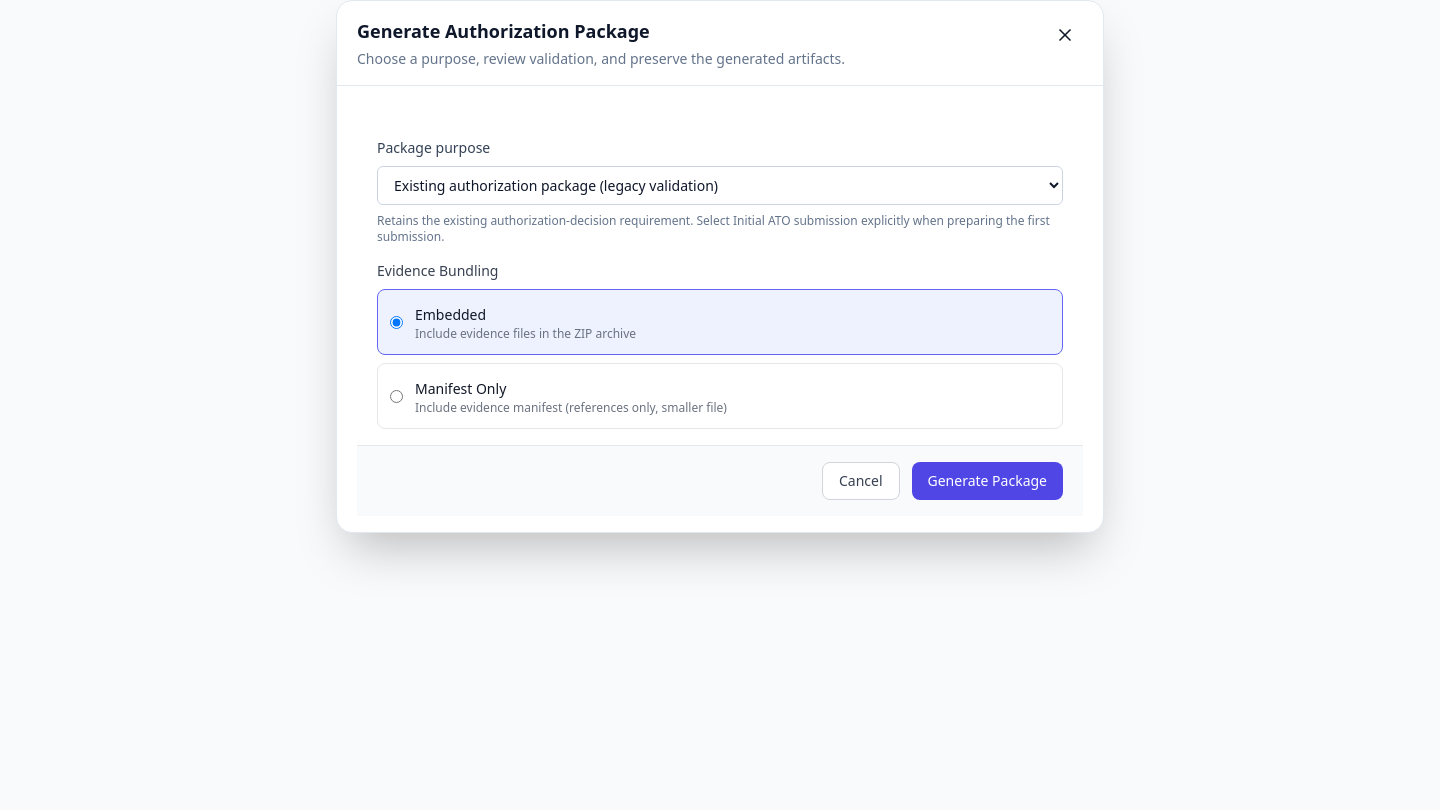
Test: cookie-session progress clients › does not generate an archive until the baseline and decision are explicitly pinned
Expected: the button "Generate Package" is shown, x1=912 y1=462 x2=1063 y2=500
Select "Authorized baseline archive" in the dropdown labelled "Package purpose": x=720, y=186 x1=377 y1=166 x2=1063 y2=205
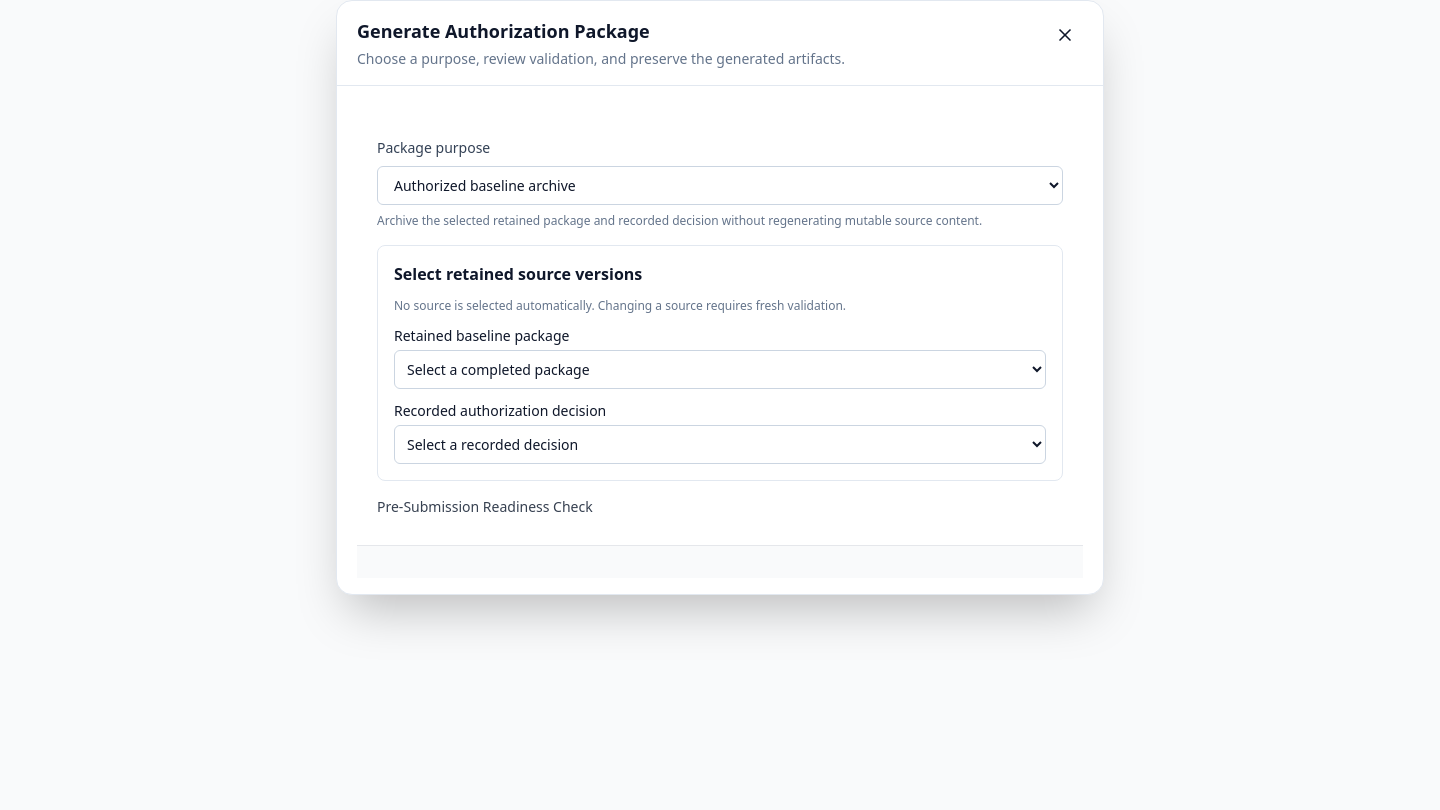
Expected: the button "Generate Package" is gone
Select "InitialSubmission · 2026-09-01 · baseline-a" in the dropdown labelled "Retained baseline package": x=720, y=370 x1=394 y1=350 x2=1046 y2=389
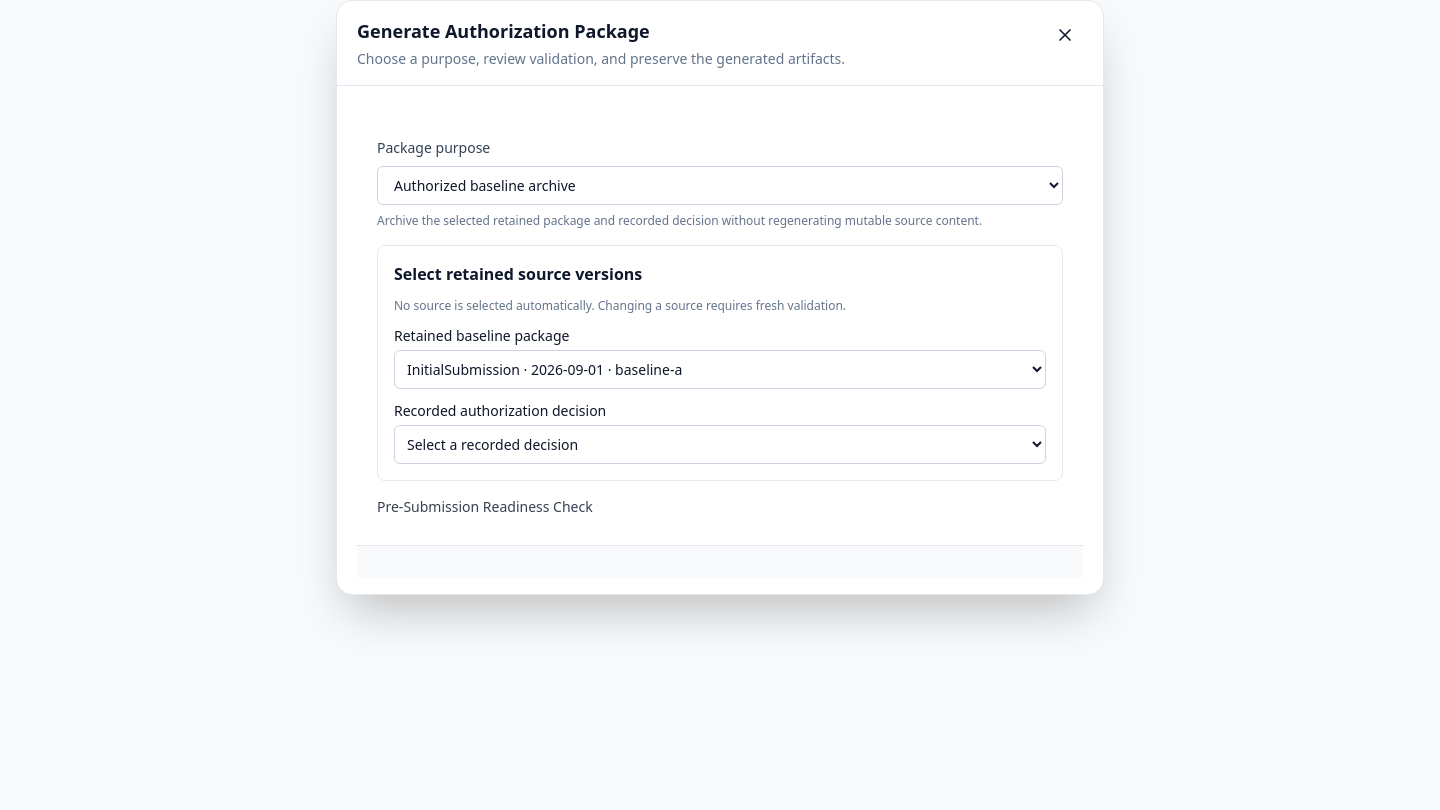
Select "ATO · 2026-09-02 · Recorded issuer" in the dropdown labelled "Recorded authorization decision": x=720, y=444 x1=394 y1=425 x2=1046 y2=464
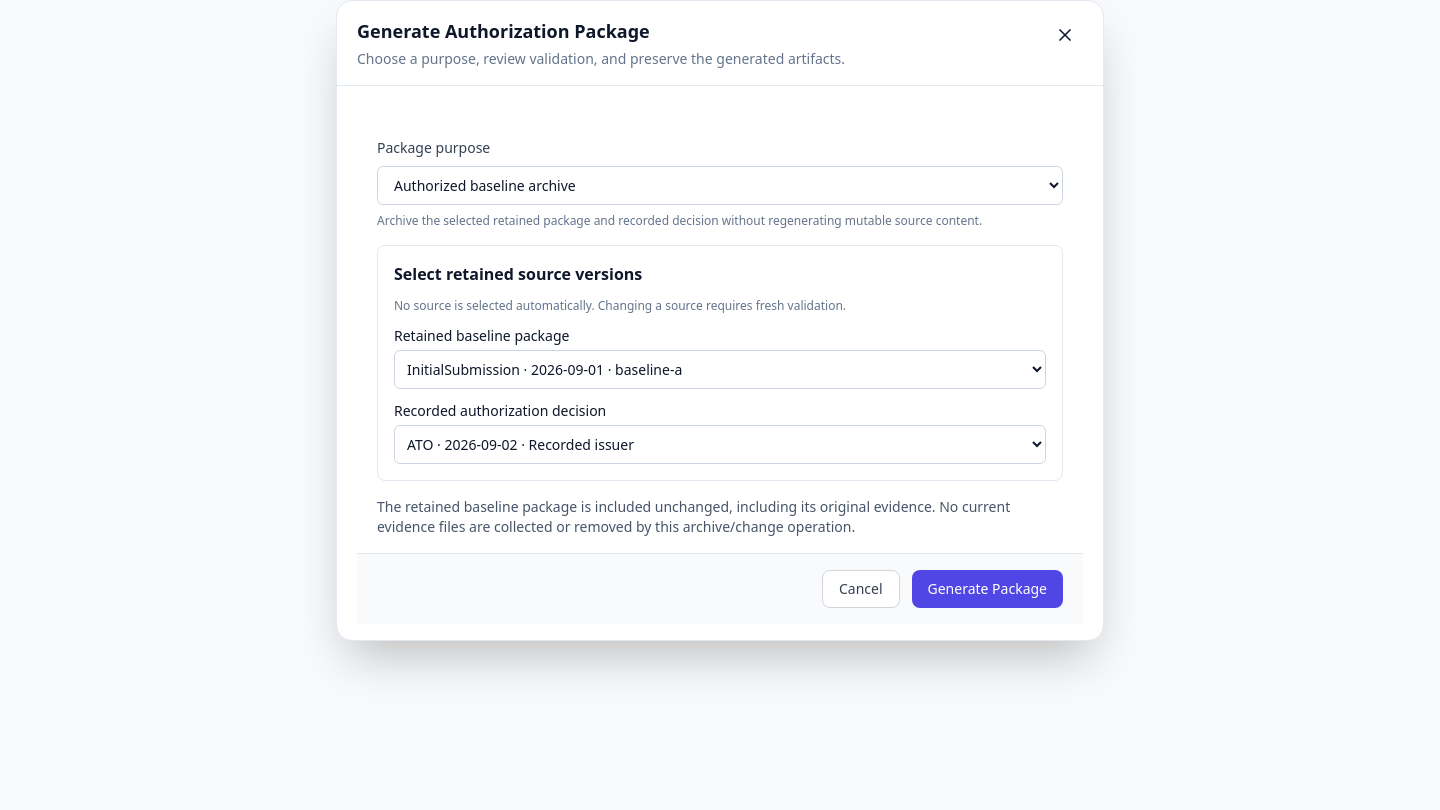
Click the button "Generate Package": x=987, y=589 x1=912 y1=570 x2=1063 y2=608
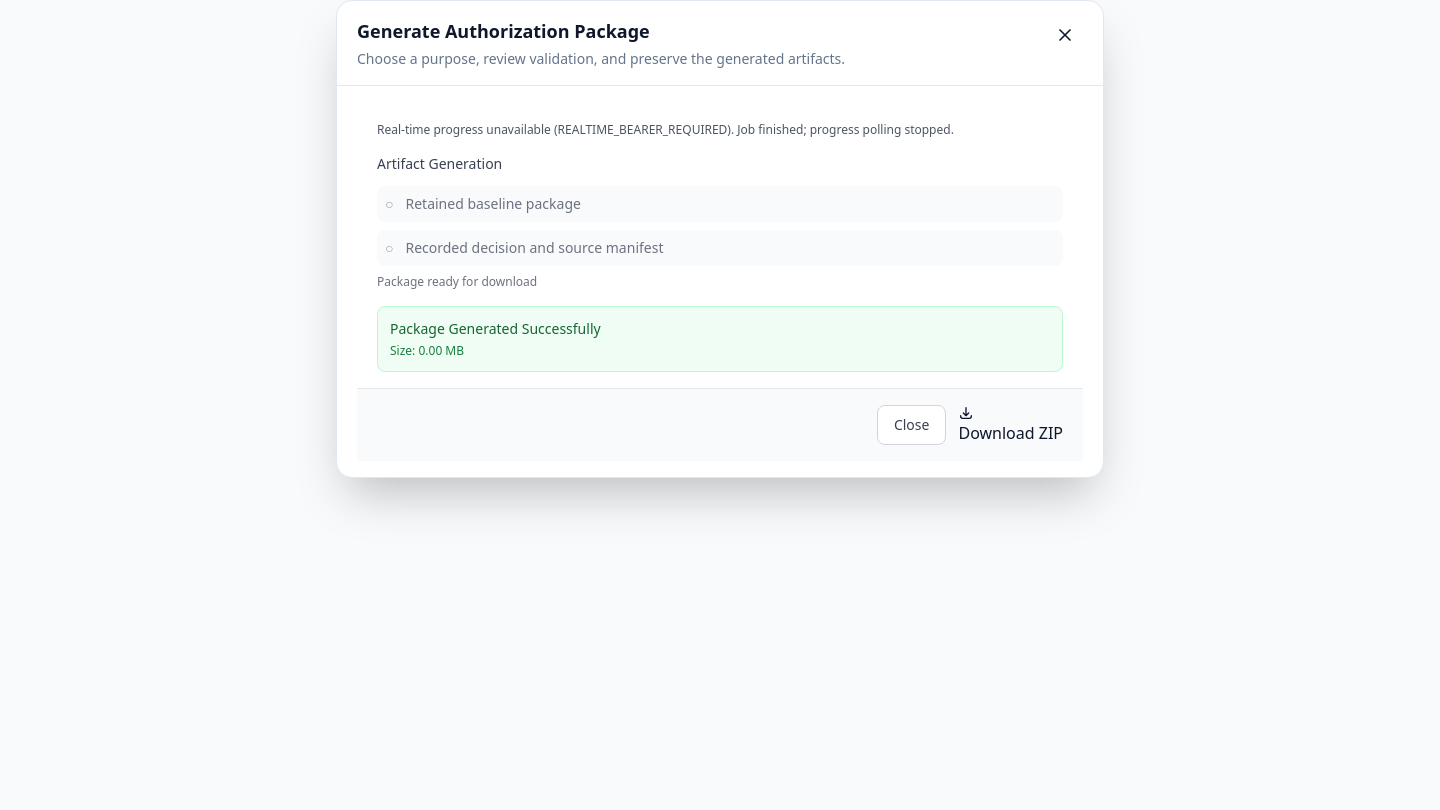
Expected: the text "Package Generated Successfully" is shown, x1=390 y1=319 x2=601 y2=338
